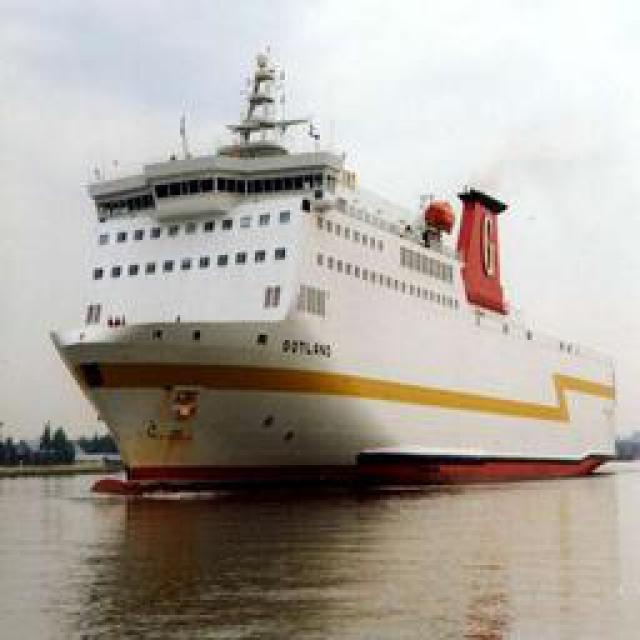Ship: (47, 54, 627, 469)
